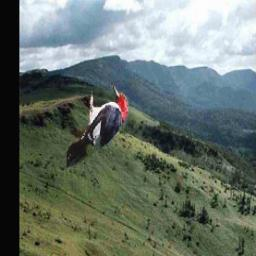Woodpecker: (66, 83, 128, 169)
